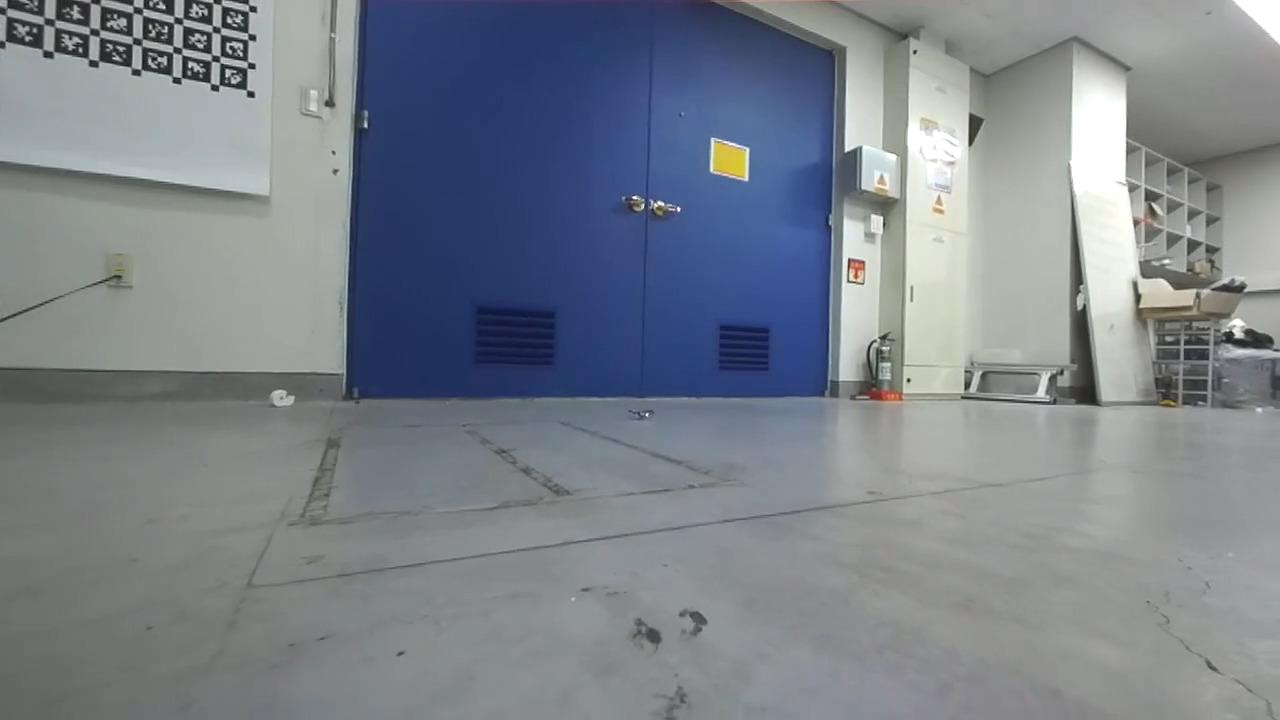crazyflie: (617, 401, 669, 428)
